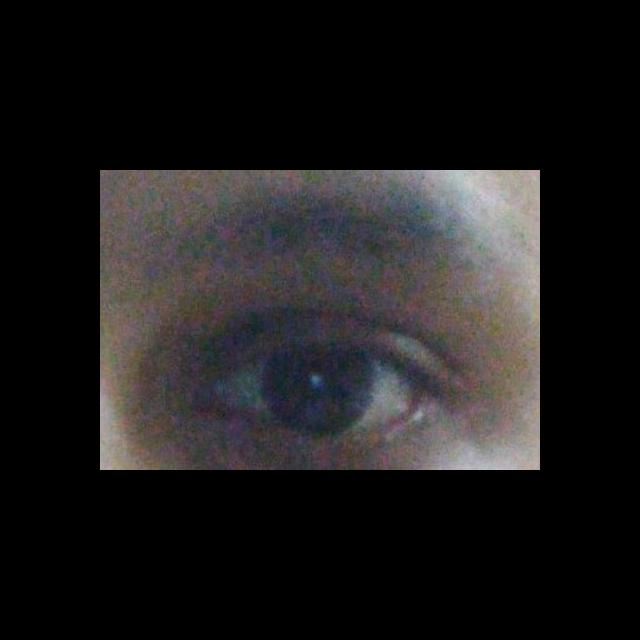eye: (210, 349, 423, 432)
iris: (262, 348, 372, 428)
